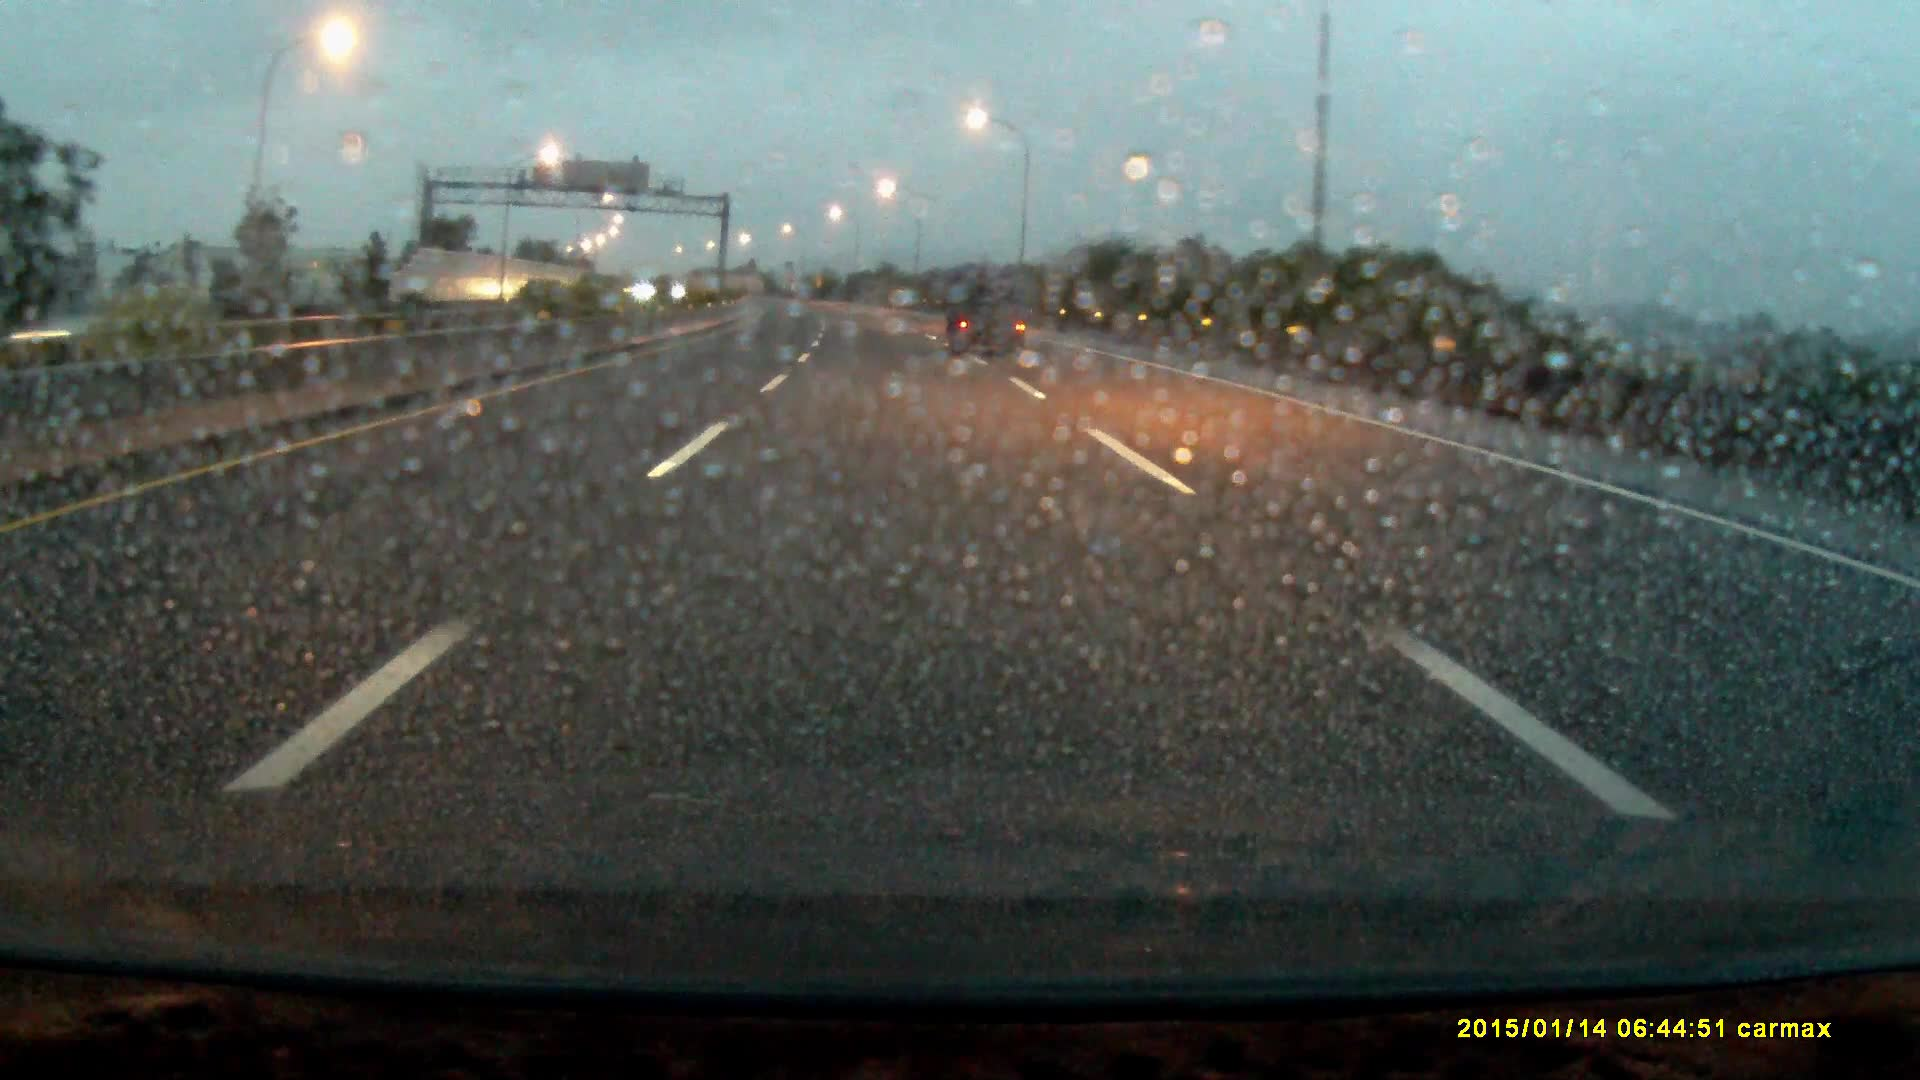vehicle: (944, 272, 1030, 359)
